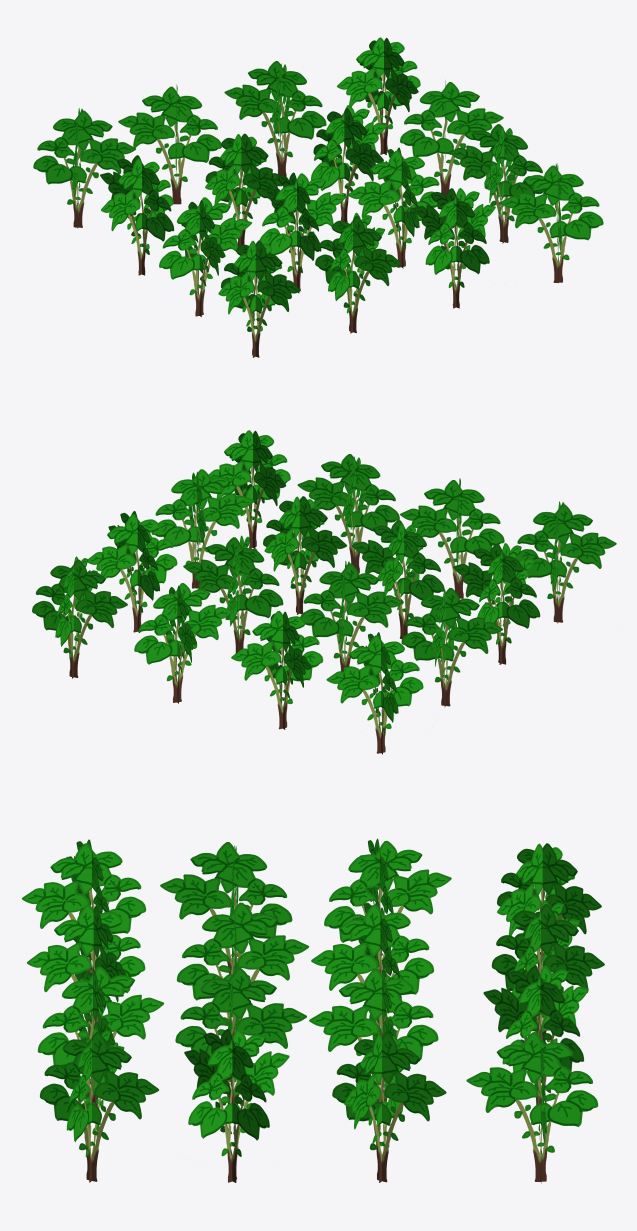
File: potato-stage2.glb
3 renders of one model, top to bottom at view 1: azimuth 30°, elevation 25°; view 2: azimuth 150°, elevation 25°; view 3: azimuth 270°, elevation 25°, orthographic. The views are drawn at different scales.
Parts seen in each view (by area): view 1: Potatoe_F2.001; view 2: Potatoe_F2.001; view 3: Potatoe_F2.001.
Part boxes in pixels (x1,y1,x2,y2): Potatoe_F2.001: (33, 37, 603, 357); Potatoe_F2.001: (32, 430, 616, 754); Potatoe_F2.001: (22, 838, 604, 1183).
Size of the model in its own units: 2.23 by 0.603 by 2.22.
Materials: 1 (1 with a texture image).
